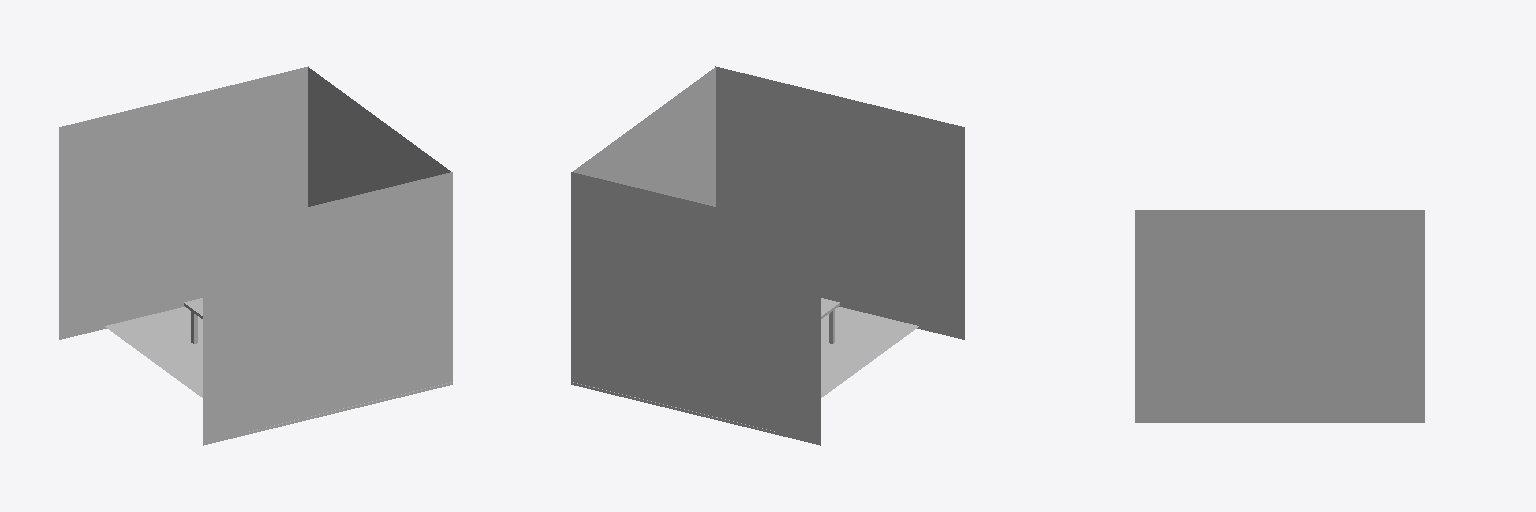
File: table.obj
3 views of the same model, side by side, from view 1: azimuth 30°, elevation 25°; view 2: azimuth 150°, elevation 25°; view 3: azimuth 270°, elevation 25° (orthographic).
Visible parts, largest first — view 1: Plane.002, Plane.003, Plane.001, Plane; view 2: Plane.003, Plane.002, Plane.001, Plane; view 3: Plane.001.
Part boxes in pixels (x1,y1,x2,y2): Plane.002: (203, 172, 452, 445); Plane.003: (59, 66, 308, 339); Plane.001: (308, 67, 450, 206); Plane: (105, 307, 450, 431); Plane.003: (571, 172, 820, 445); Plane.002: (715, 66, 964, 339); Plane.001: (573, 67, 715, 206); Plane: (573, 307, 918, 431); Plane.001: (1135, 210, 1424, 422).
Bounding box in the file's own units: 9.07 × 7.37 × 9.07.